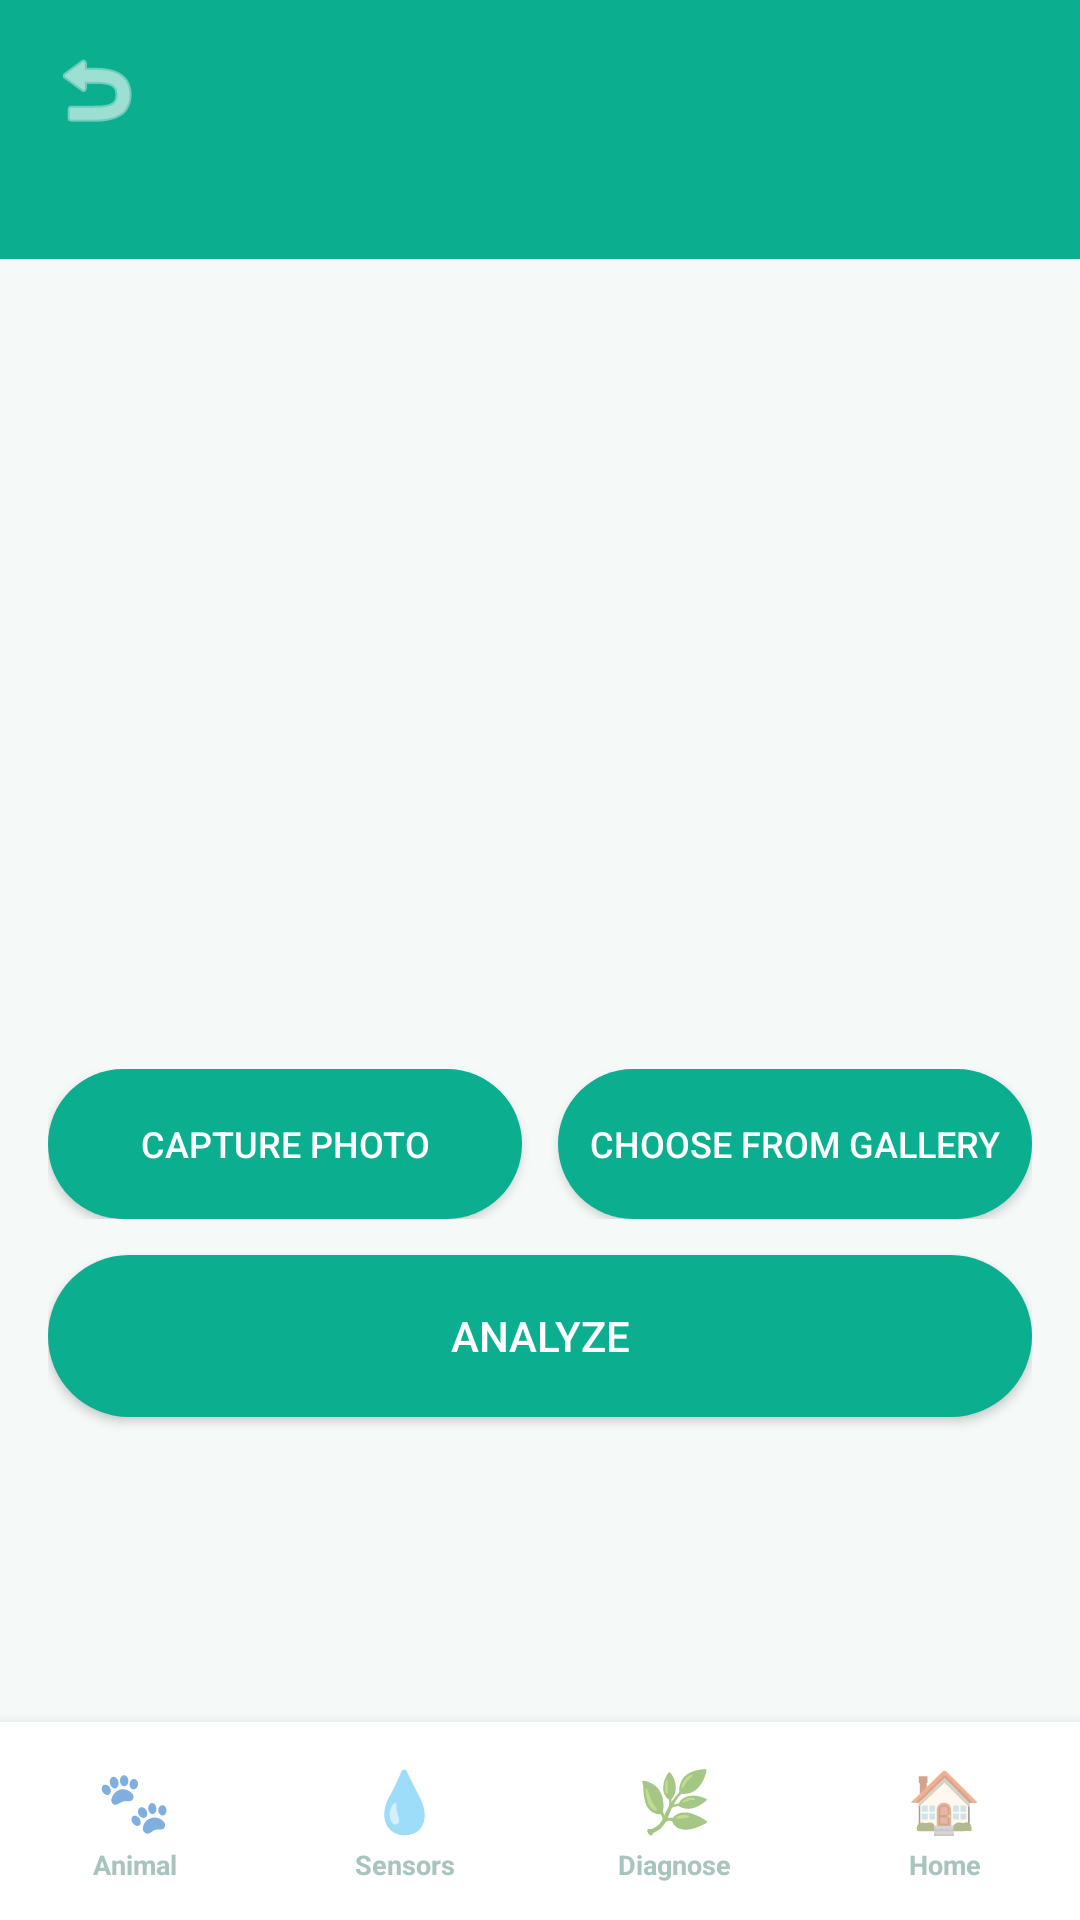

Locate icon controls on the screen. Image size 1080px×1920px, boxes as (x1, y1, x2, y2).
Back: (63, 59, 132, 122)
